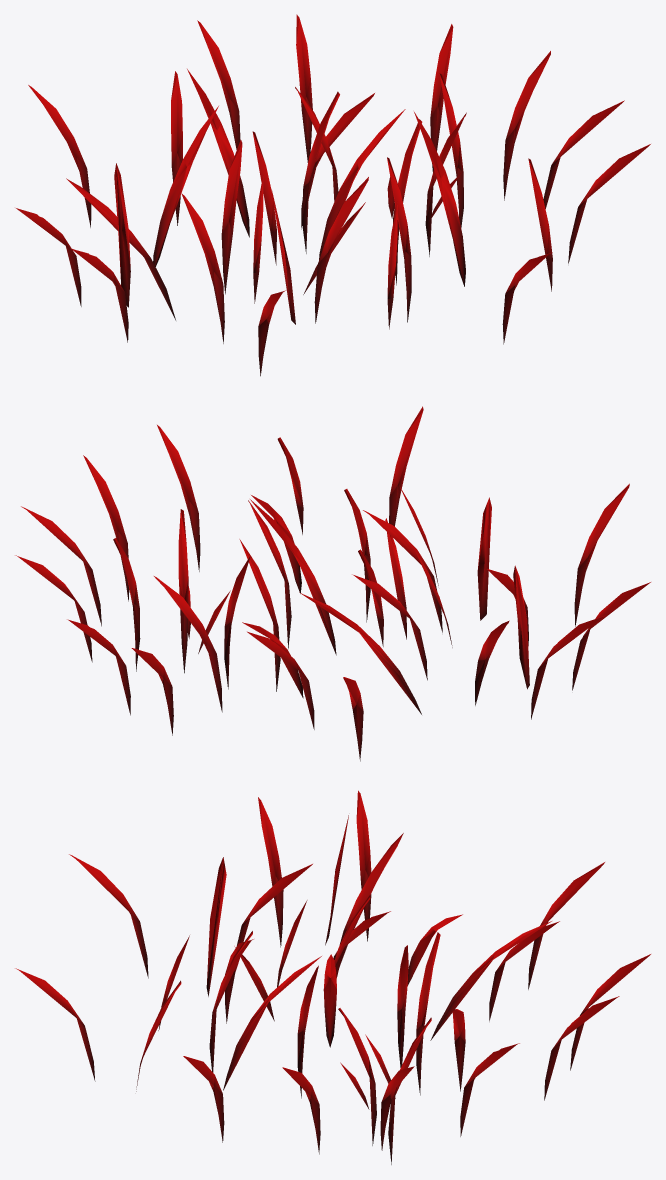
The model's file is Grass.fbx.
The picture shows the model from 3 angles, top to bottom: view 1: azimuth 30°, elevation 25°; view 2: azimuth 150°, elevation 25°; view 3: azimuth 270°, elevation 25°; orthographic projection. The views are drawn at different scales.
Parts seen in each view (by area): view 1: Grass; view 2: Grass; view 3: Grass.
Part boxes in pixels (x1,y1,x2,y2): Grass: (16,14,650,376); Grass: (15,406,650,761); Grass: (15,790,650,1164).
Bounding box in the file's own units: 3.93 × 1.2 × 3.88.
